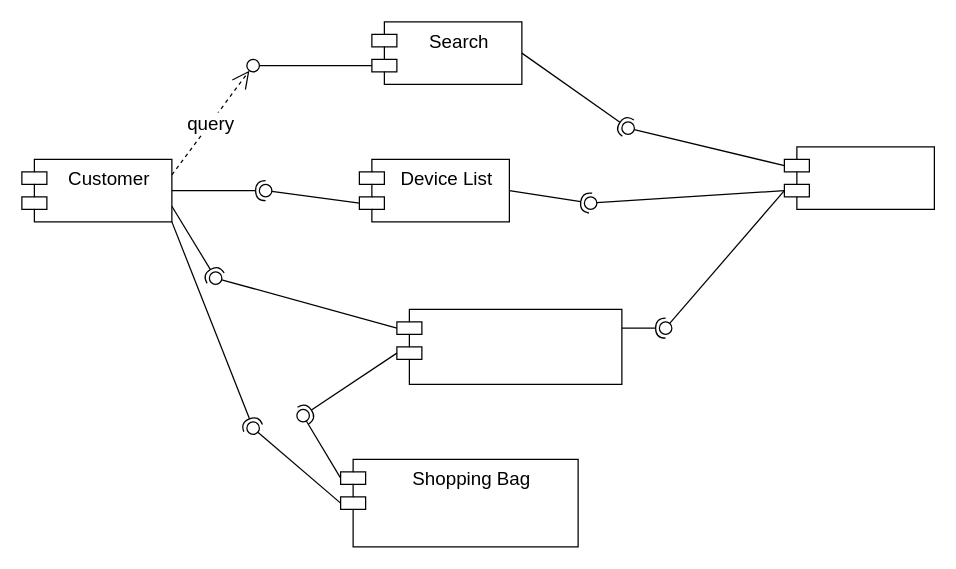
The diagram is 956 pixels wide and 569 high, and some of its shapes have lost their labels. Each missing label, with the centre of its shape:
Device Configuration: point 509,346
Server: point 858,177
